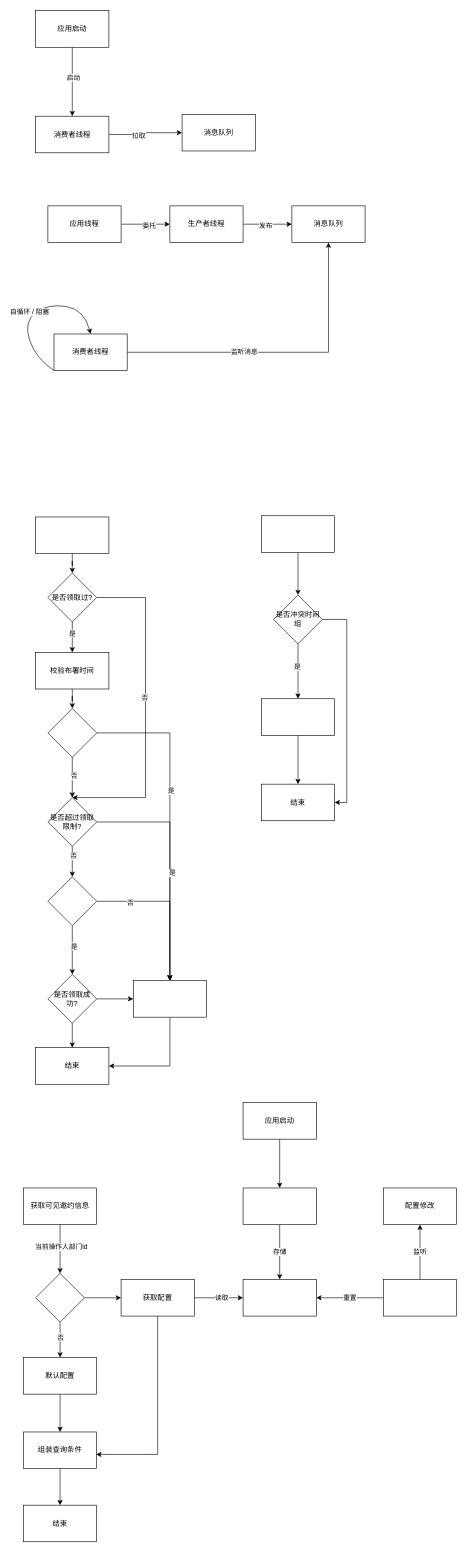
This 468x1552 diagram has some shape labels left out. Each missing label, with the centre of its shape:
reload: pixel 420 1297
剔除: pixel 298 716
取消布署: pixel 298 533
布署时间是否冲突?: pixel 72 732
异常提示: pixel 169 998
是否有容量: pixel 72 901
是否有配置: pixel 59 1297
本地缓存: pixel 279 1297
读取配置: pixel 279 1206
领取: pixel 72 535
